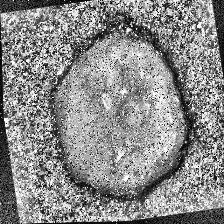pothole: (39, 22, 201, 215)
